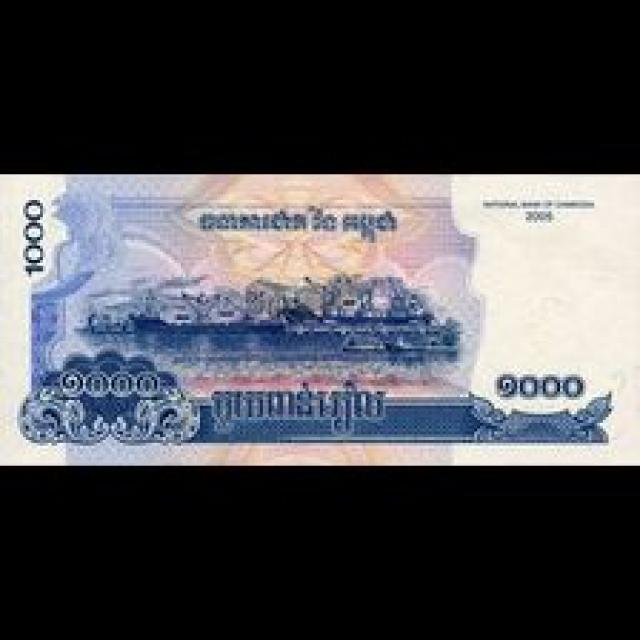banknote: (0, 174, 640, 462), (16, 195, 59, 284)
